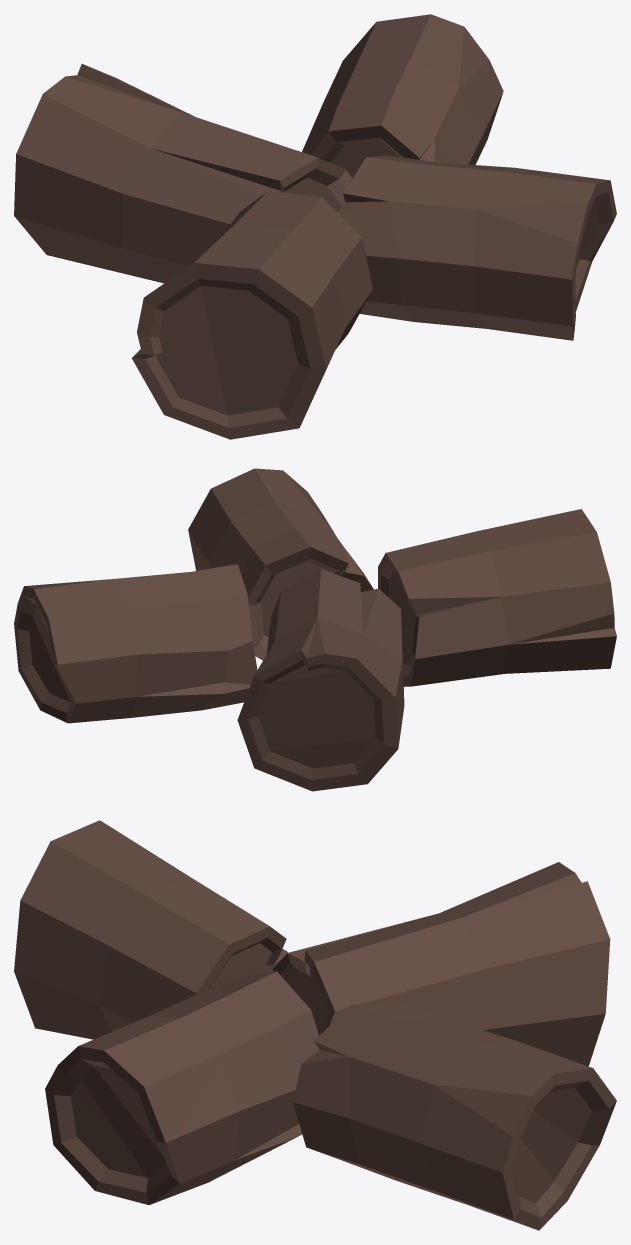
File: logfire.glb
3 renders of one model, top to bottom at view 1: azimuth 30°, elevation 25°; view 2: azimuth 150°, elevation 25°; view 3: azimuth 270°, elevation 25°, orthographic. The views are drawn at different scales.
Visible parts, largest first — view 1: Bonfire_Fire; view 2: Bonfire_Fire; view 3: Bonfire_Fire.
Boxes of the visible parts, x1,y1,x2,y2 form: Bonfire_Fire: (14,14,616,439); Bonfire_Fire: (14,468,616,791); Bonfire_Fire: (14,820,616,1230).
Bounding box in the file's own units: 0.7904 × 0.2455 × 0.7208.
